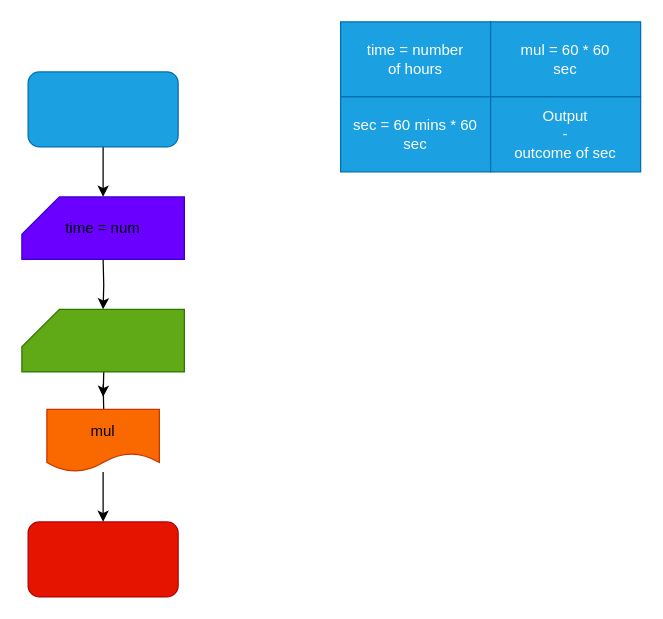
This 663x619 diagram has some shape labels left out. The shapes that lost their labels are listed below. From the top down, each one's box as (x1, y1, x2, y2) in pixels, then its label:
(27, 71, 178, 147): START
(21, 308, 184, 372): sec = 60 *60 * time
(27, 521, 178, 597): End
